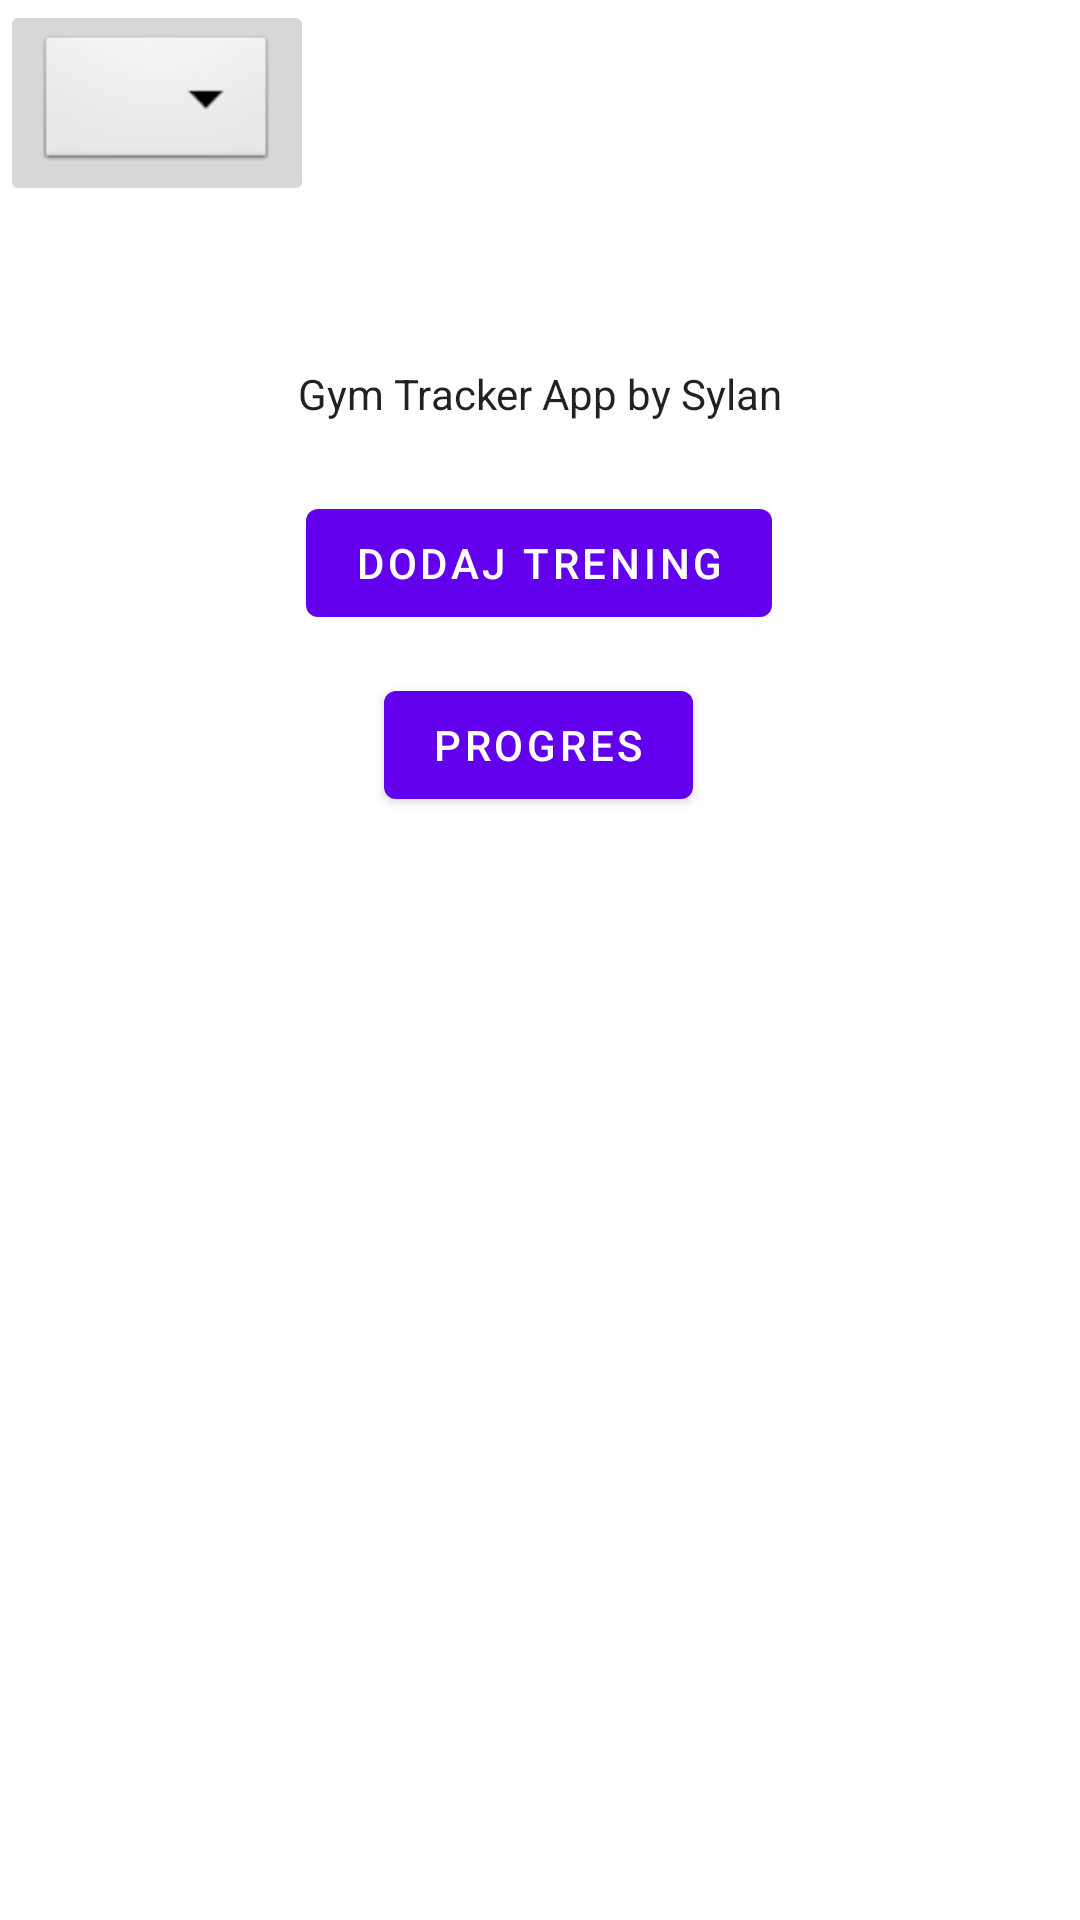

Icon click points for this 1080px×1920px phone screenshot, format point (x, y):
dropdown: point (157, 103)
